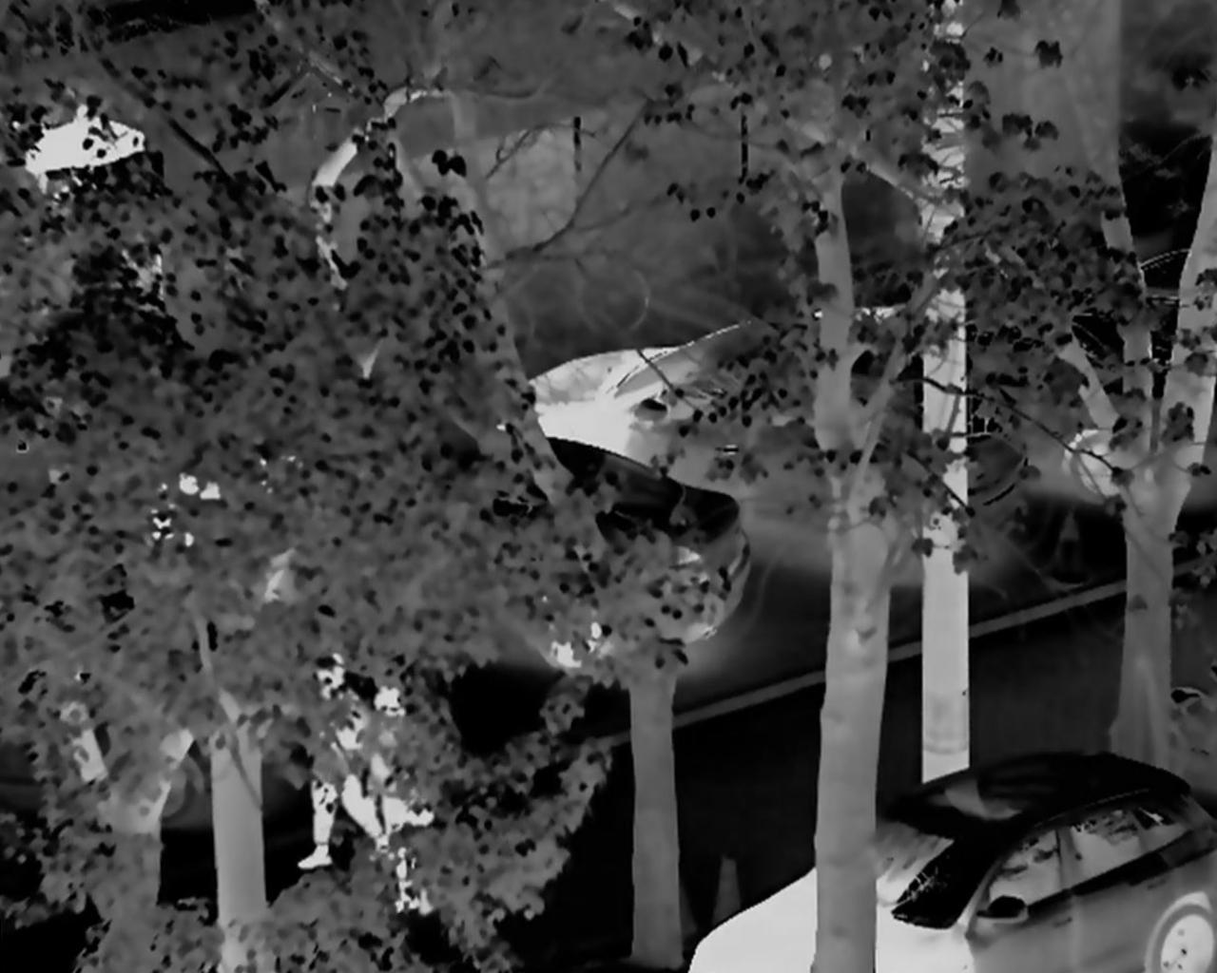person: (362, 682, 454, 913), (295, 647, 387, 872)
